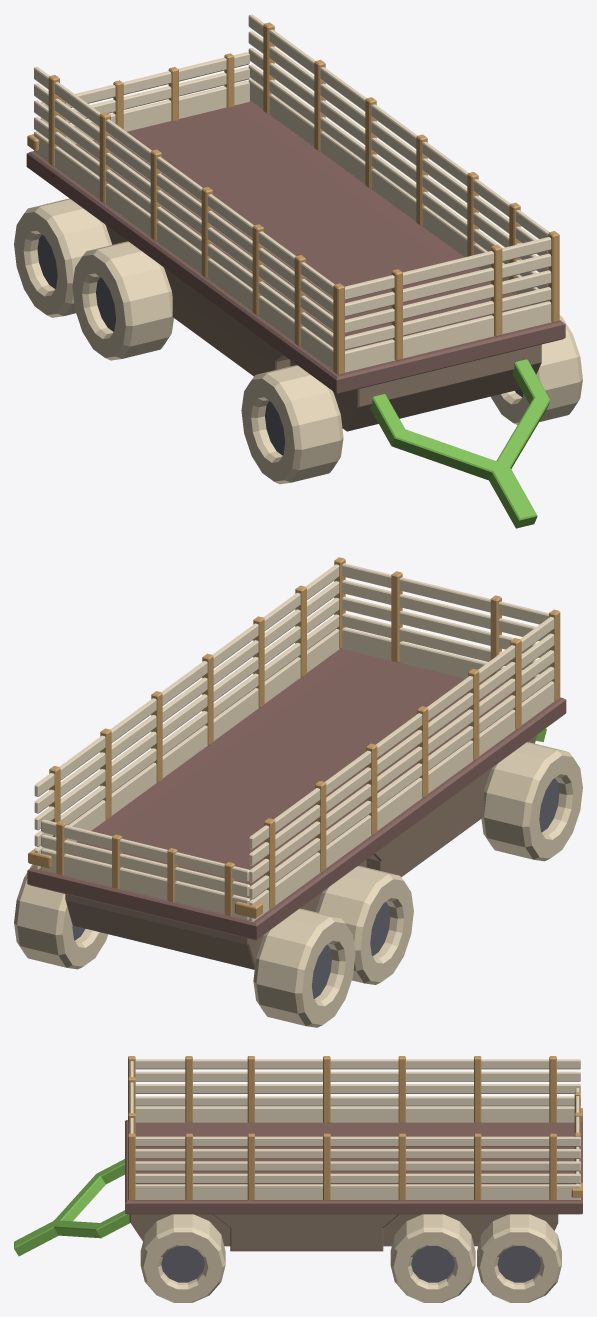
File: farmwagon_a02.gltf
3 renders of one model, top to bottom at view 1: azimuth 30°, elevation 25°; view 2: azimuth 150°, elevation 25°; view 3: azimuth 270°, elevation 25°, orthographic. The views are drawn at different scales.
Parts seen in each view (by area): view 1: body, wheel_23, wheel_15, wheel_19, wheel_7, wheel_3, wheel_11; view 2: body, wheel_19, wheel_23, wheel_15, wheel_13, wheel_11, wheel_3, wheel_7; view 3: body, wheel_12, wheel_16, wheel_20, wheel_4, wheel_0, wheel_8.
Boxes of the visible parts, x1,y1,x2,y2 form: body: (23, 14, 582, 528); wheel_23: (241, 378, 294, 481); wheel_15: (14, 212, 67, 314); wheel_19: (72, 255, 125, 357); wheel_7: (96, 277, 115, 331); wheel_3: (37, 235, 57, 288); wheel_11: (265, 401, 284, 455); body: (14, 557, 573, 1027); wheel_19: (360, 879, 413, 982); wheel_23: (529, 755, 582, 858); wheel_15: (302, 922, 355, 1024); wheel_13: (62, 906, 107, 966); wheel_11: (539, 778, 559, 832); wheel_3: (312, 944, 331, 998); wheel_7: (370, 902, 390, 956); body: (14, 1056, 582, 1302); wheel_12: (480, 1232, 558, 1301); wheel_16: (393, 1232, 472, 1301); wheel_20: (143, 1232, 222, 1301); wheel_4: (411, 1246, 454, 1282); wheel_0: (497, 1246, 541, 1282); wheel_8: (161, 1246, 204, 1282).
Bounding box in the file's own units: 2.51 × 1.77 × 5.81.
Materials: 1 (1 with a texture image).
